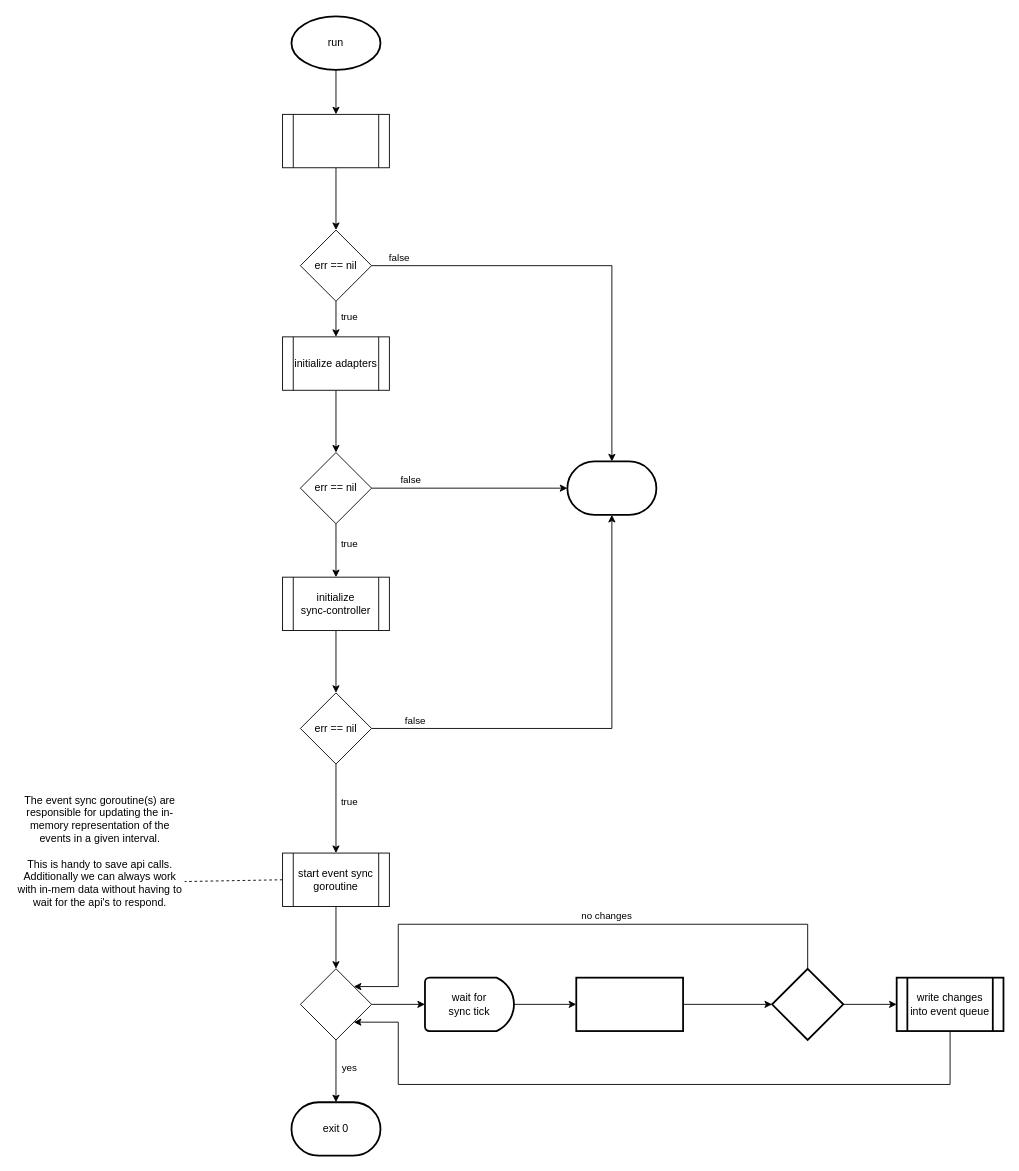
Some shapes in this 1019 by 1171 pixel diagram are drawn without their labels. The centre of each missing label's shape, as x and y in pixels:
"changes?" belongs at point 807,1003.
"diff events which are currently in memory" belongs at point 629,1004.
"exit 1" belongs at point 611,487.
"load config file" belongs at point 335,140.
"terminate?" belongs at point 335,1004.
